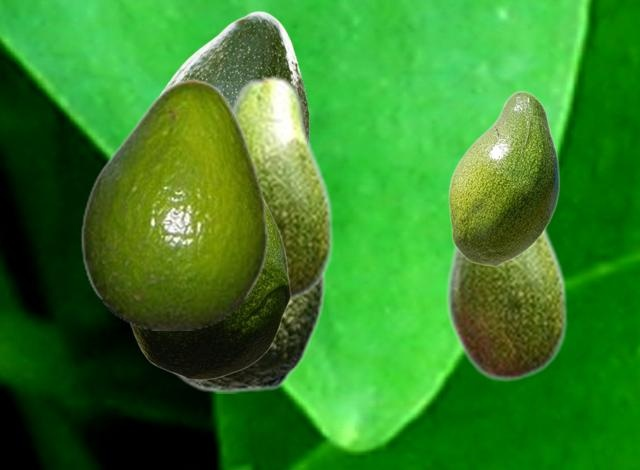avocado: (80, 78, 267, 329), (130, 200, 290, 379), (228, 73, 333, 305), (448, 90, 559, 266), (446, 225, 567, 382), (157, 11, 308, 134), (168, 280, 324, 392)
